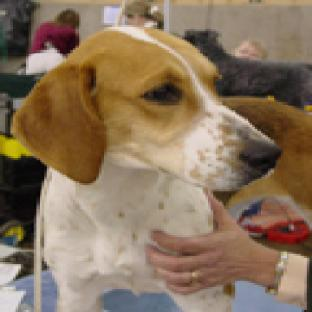Animal: (10, 27, 278, 310)
